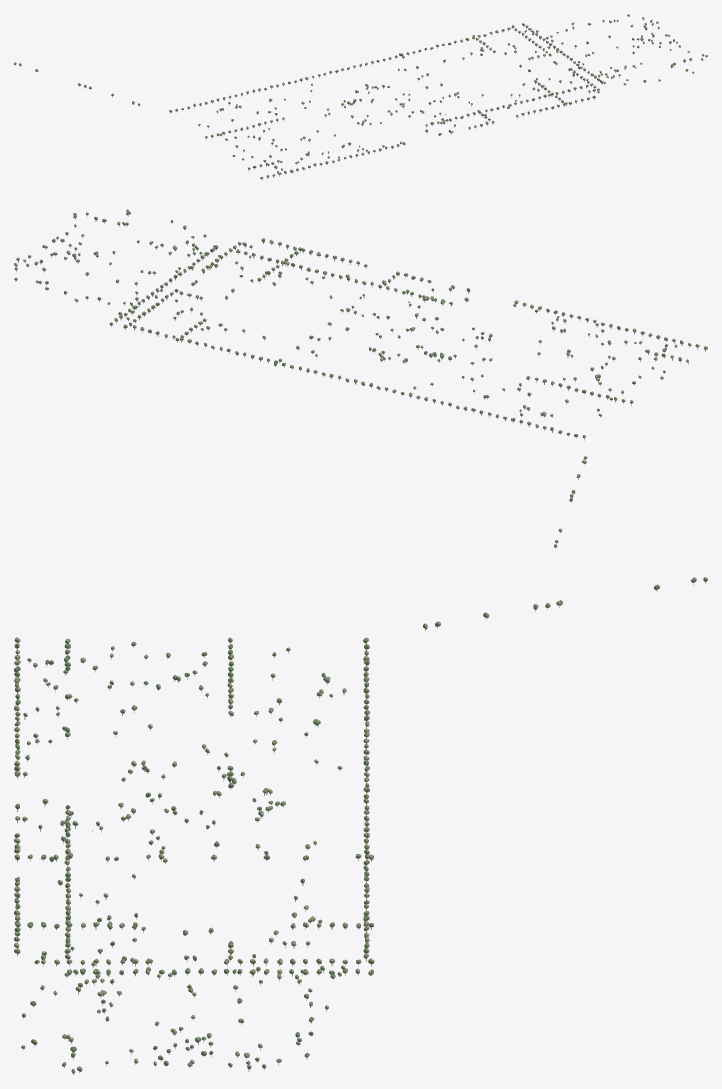
Rendered from 05-guanghua-closeout-photo.glb.
3 views of the same model, one above another, from view 1: azimuth 30°, elevation 25°; view 2: azimuth 150°, elevation 25°; view 3: azimuth 270°, elevation 25° (orthographic). The views are drawn at different scales.
Parts seen in each view (by area): view 1: Canopy 2 details.001, Canopy 3 details.001, Canopy 4 details.001, Canopy 0 details.001, Canopy 1 details.001, Tree bark details.001; view 2: Canopy 4 details.001, Canopy 3 details.001, Canopy 2 details.001, Canopy 1 details.001, Canopy 0 details.001, Tree bark details.001; view 3: Canopy 3 details.001, Canopy 2 details.001, Canopy 4 details.001, Canopy 0 details.001, Canopy 1 details.001, Tree bark details.001.
Part boxes in pixels (<box>): Canopy 2 details.001: <box>19,17,707,179</box>; Canopy 3 details.001: <box>14,14,702,178</box>; Canopy 4 details.001: <box>35,15,707,177</box>; Canopy 0 details.001: <box>15,15,707,176</box>; Canopy 1 details.001: <box>19,14,701,172</box>; Tree bark details.001: <box>15,20,706,180</box>; Canopy 4 details.001: <box>15,210,705,532</box>; Canopy 3 details.001: <box>14,209,705,547</box>; Canopy 2 details.001: <box>14,212,707,530</box>; Canopy 1 details.001: <box>14,210,687,542</box>; Canopy 0 details.001: <box>16,211,697,545</box>; Tree bark details.001: <box>15,215,705,548</box>; Canopy 3 details.001: <box>14,577,707,1069</box>; Canopy 2 details.001: <box>14,582,694,1073</box>; Canopy 4 details.001: <box>14,601,561,1072</box>; Canopy 0 details.001: <box>14,577,706,1071</box>; Canopy 1 details.001: <box>14,577,696,1067</box>; Tree bark details.001: <box>17,582,705,1074</box>.
Size of the model in its own units: 998 by 8.07 by 593.
